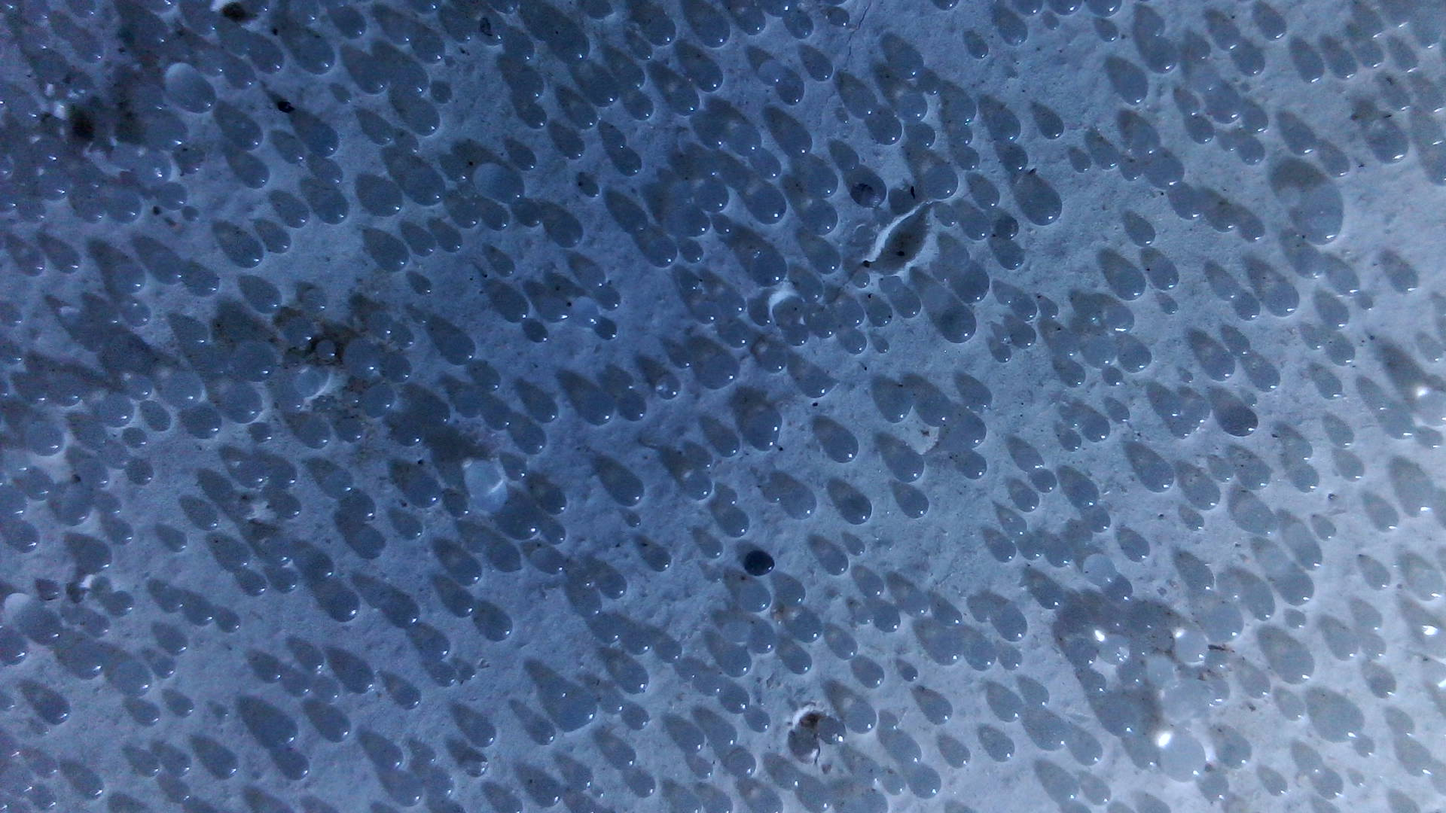GrassBeadSeg: (1319, 700, 1362, 744), (1162, 736, 1204, 780), (481, 166, 523, 204), (698, 353, 740, 389), (502, 504, 543, 539), (237, 345, 277, 380), (343, 342, 383, 377), (557, 694, 593, 730), (939, 308, 976, 343), (750, 189, 787, 224), (164, 373, 203, 406), (225, 387, 261, 422), (751, 252, 787, 286), (1024, 192, 1061, 225), (410, 172, 445, 206), (353, 62, 388, 96), (117, 664, 154, 696), (300, 40, 335, 73), (394, 66, 429, 99), (29, 423, 65, 455), (53, 493, 89, 525), (263, 716, 297, 749), (1207, 609, 1241, 642), (1175, 631, 1209, 664), (1083, 553, 1117, 586), (782, 487, 817, 519), (923, 167, 958, 199), (1372, 132, 1408, 163), (582, 391, 615, 424), (407, 477, 442, 508), (153, 117, 188, 148), (135, 153, 170, 184), (367, 186, 401, 217), (180, 82, 214, 113), (586, 75, 621, 105), (133, 19, 168, 49), (728, 127, 763, 157), (1305, 213, 1340, 243), (955, 273, 989, 303), (99, 396, 133, 426), (1084, 336, 1118, 366), (643, 16, 677, 46), (50, 378, 84, 408), (826, 432, 859, 462), (953, 418, 987, 447), (1142, 462, 1174, 492), (892, 452, 924, 482), (73, 648, 105, 678), (299, 419, 331, 449), (1281, 653, 1313, 683), (746, 419, 778, 449), (612, 476, 645, 505), (188, 410, 221, 439), (1224, 408, 1257, 437), (234, 457, 267, 486), (841, 495, 872, 525), (805, 205, 836, 235), (444, 335, 476, 364), (232, 239, 264, 268), (807, 169, 839, 198), (739, 583, 771, 612), (699, 18, 731, 47), (1118, 75, 1148, 105), (1036, 721, 1066, 751), (328, 592, 359, 621), (1151, 160, 1182, 189), (155, 255, 186, 284), (377, 242, 409, 270), (230, 123, 262, 151), (517, 426, 547, 455), (1268, 286, 1298, 315), (792, 613, 822, 642), (452, 558, 483, 586), (803, 370, 834, 398), (921, 397, 952, 425), (883, 391, 911, 422), (112, 194, 143, 222), (114, 266, 145, 294), (491, 544, 523, 571), (1000, 146, 1029, 175), (482, 613, 512, 641), (871, 117, 901, 145), (355, 531, 385, 559), (992, 114, 1020, 144), (499, 293, 529, 321), (1210, 94, 1240, 122), (365, 388, 395, 416), (750, 623, 778, 653), (31, 616, 61, 644), (848, 90, 878, 118), (0, 635, 30, 663), (933, 635, 962, 663), (554, 218, 582, 247), (894, 52, 923, 80), (310, 129, 339, 157), (422, 635, 452, 662), (559, 35, 589, 62), (389, 601, 419, 628), (81, 545, 111, 572), (678, 210, 709, 236), (1070, 482, 1098, 510), (319, 196, 348, 223), (783, 130, 812, 157), (1284, 577, 1313, 604), (700, 184, 729, 211), (82, 464, 111, 491), (967, 641, 996, 668), (227, 62, 256, 89), (24, 473, 53, 500), (1115, 273, 1145, 299), (810, 311, 840, 337), (541, 296, 572, 321), (837, 300, 868, 325), (684, 473, 712, 500), (322, 713, 349, 741), (721, 510, 749, 537), (515, 73, 543, 100), (41, 698, 69, 725), (1191, 483, 1219, 510), (812, 247, 840, 274), (1237, 50, 1265, 77), (395, 778, 423, 805), (1414, 574, 1442, 601), (746, 549, 774, 576), (1206, 354, 1235, 380), (647, 240, 676, 266), (411, 109, 440, 135), (1122, 346, 1151, 372), (723, 650, 752, 676), (252, 287, 281, 313), (394, 420, 423, 446), (1149, 47, 1176, 74), (999, 614, 1026, 641), (417, 38, 445, 64), (898, 94, 926, 120), (725, 321, 753, 347), (848, 706, 876, 732), (347, 666, 375, 692), (387, 21, 415, 47), (189, 271, 219, 295), (697, 65, 723, 92), (210, 752, 237, 778), (621, 395, 648, 421), (1152, 263, 1178, 290), (326, 471, 353, 497), (1106, 306, 1133, 332), (307, 556, 334, 582), (222, 545, 249, 571), (257, 47, 284, 73), (189, 600, 216, 626), (265, 540, 292, 566), (349, 497, 377, 522), (947, 100, 975, 125), (1050, 334, 1078, 359), (622, 667, 648, 693), (729, 751, 755, 777), (541, 489, 568, 514), (914, 772, 941, 797), (1084, 417, 1111, 442), (506, 37, 533, 62), (12, 528, 39, 553), (1403, 491, 1430, 516), (672, 90, 700, 114), (449, 592, 477, 616), (1070, 642, 1098, 666), (1105, 640, 1133, 664), (902, 492, 928, 517), (470, 722, 496, 747), (1077, 741, 1103, 766), (875, 607, 901, 632), (243, 163, 269, 188), (715, 431, 740, 457), (1388, 414, 1414, 439), (1176, 193, 1202, 218), (534, 780, 560, 805), (1107, 711, 1133, 736), (461, 753, 487, 778), (430, 775, 456, 800), (597, 620, 624, 644), (80, 198, 107, 222), (1251, 593, 1275, 620), (804, 787, 829, 812), (822, 720, 847, 745), (794, 737, 819, 762), (776, 765, 801, 790), (999, 246, 1025, 270), (897, 293, 923, 317), (454, 203, 480, 227), (621, 208, 647, 232), (340, 14, 366, 38), (124, 304, 151, 327), (823, 551, 848, 575), (961, 455, 986, 479), (1255, 367, 1280, 391), (602, 574, 627, 598), (725, 688, 749, 713), (276, 496, 301, 520), (572, 105, 597, 129), (967, 215, 992, 239), (789, 14, 814, 38), (1291, 130, 1315, 155), (740, 11, 765, 35), (1134, 130, 1158, 155), (1016, 449, 1041, 473), (787, 651, 813, 674), (160, 184, 186, 207), (183, 324, 209, 347), (996, 697, 1020, 721), (1326, 305, 1350, 329), (1224, 743, 1248, 767), (340, 419, 364, 443), (786, 322, 810, 346), (1014, 297, 1038, 321), (1406, 754, 1430, 778), (1187, 399, 1211, 423), (1077, 301, 1101, 325), (764, 349, 788, 373), (489, 406, 513, 430), (859, 664, 884, 687), (1038, 585, 1063, 608), (274, 464, 297, 489), (78, 41, 103, 64), (43, 177, 68, 200), (35, 142, 60, 165), (77, 170, 102, 193), (177, 150, 202, 173), (279, 142, 304, 165), (317, 165, 342, 188), (23, 33, 48, 56), (200, 52, 225, 75), (293, 0, 318, 23), (601, 690, 626, 713), (287, 674, 313, 696), (895, 740, 919, 763), (630, 97, 654, 120), (1126, 538, 1149, 562), (1131, 222, 1155, 245), (283, 203, 307, 226), (387, 358, 410, 382), (1049, 543, 1072, 567), (1246, 466, 1270, 489), (1240, 142, 1264, 165), (1262, 17, 1286, 40), (1053, 778, 1077, 801), (1335, 273, 1359, 296), (626, 630, 650, 653), (700, 125, 724, 148), (1212, 209, 1236, 232), (1298, 256, 1322, 279), (1109, 579, 1132, 603), (542, 678, 566, 701), (278, 392, 302, 415), (304, 290, 328, 313), (371, 314, 395, 337), (459, 394, 482, 418), (1301, 58, 1323, 83), (192, 11, 217, 33), (928, 701, 951, 724), (1295, 469, 1318, 492), (869, 303, 892, 326), (833, 636, 856, 659), (657, 376, 680, 399), (1236, 297, 1259, 320), (1320, 774, 1343, 797), (1333, 56, 1356, 79), (1132, 610, 1155, 633), (290, 321, 313, 344), (426, 403, 449, 426), (681, 730, 705, 752), (380, 747, 404, 769), (57, 251, 81, 273), (968, 388, 992, 410), (1191, 122, 1215, 144), (258, 659, 282, 681), (23, 199, 47, 221), (15, 100, 39, 122), (779, 83, 803, 105), (990, 738, 1013, 760), (532, 722, 555, 744), (598, 289, 621, 311), (1376, 509, 1399, 531), (80, 776, 103, 798), (1246, 675, 1269, 697), (371, 123, 394, 145), (1190, 570, 1213, 592), (801, 278, 823, 301), (578, 594, 601, 616), (484, 21, 507, 43), (1289, 441, 1311, 464), (286, 757, 309, 779), (0, 344, 23, 366), (1301, 546, 1322, 570), (621, 69, 645, 90), (452, 22, 476, 43), (722, 295, 746, 316), (810, 59, 832, 81), (596, 318, 618, 340), (196, 508, 218, 530), (1332, 343, 1354, 365), (1334, 637, 1356, 659), (23, 254, 45, 276), (413, 234, 435, 256), (1253, 514, 1275, 536), (1206, 683, 1228, 705), (543, 553, 565, 575), (26, 382, 48, 404), (906, 594, 928, 616), (398, 687, 421, 708), (626, 708, 649, 729), (131, 464, 154, 485), (844, 333, 867, 354), (1365, 638, 1386, 661), (760, 64, 783, 85), (1188, 41, 1211, 62), (1142, 18, 1165, 39), (1004, 25, 1027, 46), (1423, 94, 1446, 115), (1219, 279, 1240, 302), (1230, 335, 1251, 358), (1208, 649, 1231, 670), (693, 302, 716, 323), (680, 242, 703, 263), (582, 269, 605, 290), (574, 305, 597, 326), (570, 769, 593, 790), (301, 650, 324, 671), (317, 683, 340, 704), (147, 410, 170, 431), (83, 427, 106, 448), (97, 305, 120, 326), (618, 155, 642, 175), (614, 747, 635, 769), (1042, 118, 1064, 139), (994, 540, 1015, 562), (562, 138, 584, 159), (1017, 491, 1039, 512), (401, 519, 423, 540), (245, 574, 266, 596), (169, 755, 191, 776), (783, 583, 804, 605), (1086, 674, 1107, 696), (1220, 30, 1242, 51), (1248, 113, 1270, 134), (1329, 156, 1351, 177), (1362, 19, 1384, 40), (1387, 9, 1409, 30), (1388, 90, 1410, 111), (1394, 718, 1416, 739), (1023, 538, 1044, 560), (168, 783, 190, 804), (106, 448, 128, 469), (126, 429, 148, 450), (130, 380, 152, 401), (1362, 610, 1382, 633), (650, 550, 671, 571), (633, 775, 654, 796), (862, 577, 883, 598), (659, 640, 680, 661), (1243, 221, 1264, 242), (951, 124, 972, 145), (1121, 160, 1142, 181), (1123, 666, 1144, 687), (1005, 517, 1026, 538), (701, 674, 722, 695), (714, 728, 735, 749), (1373, 677, 1395, 697), (536, 402, 558, 422), (268, 233, 290, 253), (138, 705, 160, 725), (1395, 272, 1417, 292), (759, 158, 781, 178), (162, 592, 184, 612), (1028, 686, 1048, 708), (39, 579, 61, 599), (165, 633, 186, 653), (112, 595, 133, 615), (978, 187, 999, 207), (87, 616, 108, 636), (1172, 420, 1193, 440), (488, 210, 509, 230), (837, 150, 858, 170), (958, 149, 979, 169), (998, 219, 1018, 240), (1098, 148, 1118, 169), (1397, 53, 1418, 73), (1423, 127, 1444, 147), (1013, 328, 1035, 347), (1206, 779, 1225, 801), (36, 758, 58, 777), (316, 341, 338, 360), (137, 757, 160, 775), (11, 776, 34, 794), (750, 712, 770, 732), (526, 108, 546, 128), (494, 257, 514, 277), (277, 571, 297, 591), (1363, 48, 1383, 68), (521, 208, 541, 228), (1419, 28, 1439, 48), (1303, 755, 1323, 775), (1137, 750, 1157, 770), (527, 324, 548, 343), (950, 746, 969, 767), (1369, 570, 1390, 589), (886, 774, 905, 795), (35, 792, 57, 810), (442, 233, 462, 252), (1037, 473, 1057, 492), (480, 370, 499, 390), (113, 525, 133, 544), (155, 659, 175, 678), (916, 128, 935, 148), (435, 667, 455, 686), (1285, 701, 1304, 721), (448, 498, 468, 517), (940, 607, 960, 626), (1268, 776, 1287, 796), (509, 460, 528, 480), (1064, 367, 1085, 385), (861, 764, 879, 785), (1001, 650, 1020, 669), (1335, 429, 1354, 448), (1322, 379, 1341, 398), (252, 424, 271, 443), (1423, 345, 1442, 364), (1369, 394, 1388, 413), (1345, 462, 1364, 481), (1316, 522, 1335, 541), (174, 698, 194, 716), (1091, 513, 1109, 533), (1091, 785, 1109, 805), (434, 84, 452, 104), (832, 7, 850, 27), (401, 137, 419, 156), (1424, 432, 1443, 450), (450, 162, 467, 182), (519, 151, 536, 171), (1357, 738, 1375, 756), (169, 533, 187, 551), (103, 497, 121, 515), (8, 497, 26, 515), (10, 456, 28, 474), (608, 132, 625, 151), (1063, 434, 1081, 451), (971, 41, 988, 59), (696, 762, 714, 779), (680, 664, 698, 681), (77, 1, 94, 18), (146, 96, 163, 113), (995, 347, 1012, 364), (854, 271, 871, 288), (716, 217, 733, 234), (681, 275, 698, 292), (675, 353, 692, 370), (706, 541, 723, 558), (765, 486, 782, 503), (548, 527, 565, 544), (702, 162, 719, 179), (32, 6, 50, 22), (1162, 402, 1180, 418), (397, 330, 415, 346), (222, 615, 239, 631), (415, 279, 432, 295), (1289, 612, 1306, 628), (1187, 515, 1204, 531), (1218, 466, 1235, 482), (997, 288, 1013, 305), (940, 210, 956, 227), (755, 310, 771, 327), (618, 376, 634, 393), (696, 452, 712, 469), (721, 490, 737, 507), (850, 541, 866, 558), (1, 194, 18, 210), (1101, 25, 1117, 41), (1308, 334, 1324, 350), (1113, 406, 1128, 423), (1198, 78, 1215, 93), (1182, 101, 1198, 116), (1223, 136, 1239, 151), (1107, 370, 1122, 386), (1042, 303, 1057, 319), (1163, 300, 1179, 315), (925, 81, 941, 96), (6, 312, 22, 327), (1077, 157, 1092, 172), (586, 184, 600, 198), (340, 91, 353, 105), (638, 47, 652, 60), (859, 611, 872, 625), (885, 716, 898, 730), (1046, 17, 1059, 30), (876, 341, 888, 353), (628, 515, 640, 527), (465, 668, 477, 680), (217, 707, 229, 719), (416, 312, 428, 324), (1361, 299, 1373, 310), (1247, 396, 1259, 407), (1182, 373, 1194, 384), (997, 331, 1009, 342), (1068, 416, 1080, 427), (0, 0, 12, 11), (1434, 802, 1446, 813), (1434, 0, 1446, 11), (711, 571, 722, 583), (580, 577, 591, 589), (424, 752, 435, 764), (938, 271, 950, 282), (906, 669, 917, 681), (187, 209, 198, 221), (1354, 774, 1364, 787), (595, 789, 605, 800), (840, 113, 849, 123)
